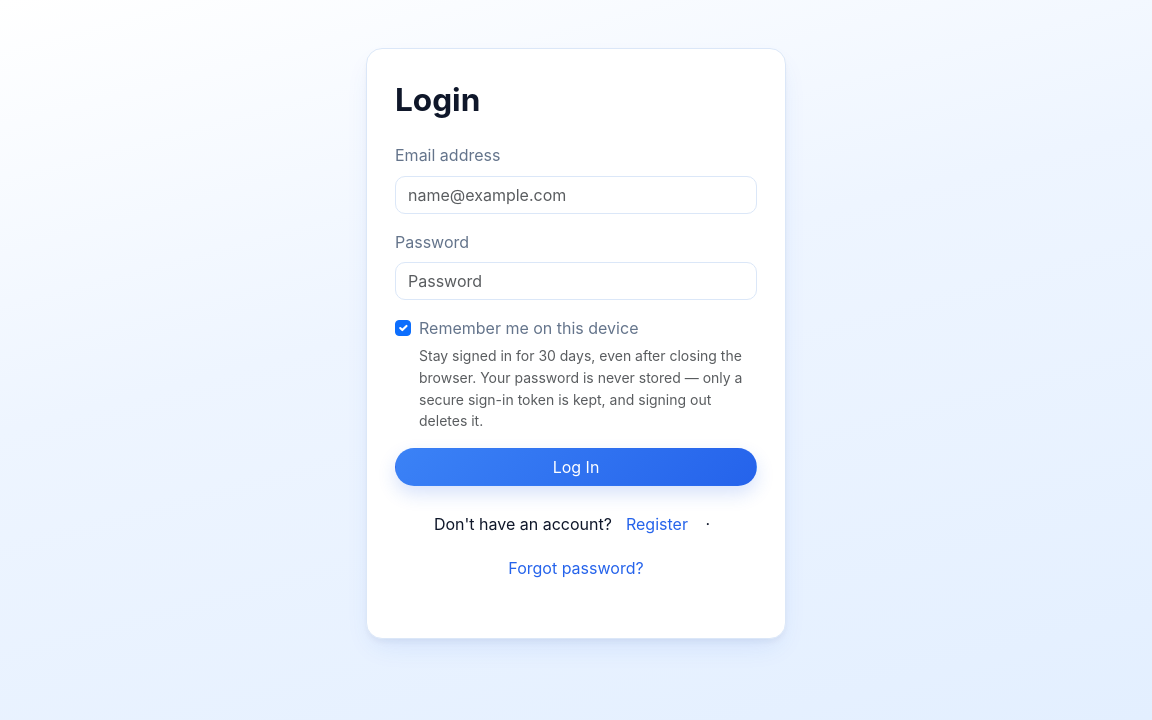
Main Navigation › navigates between the auth pages
Check: the heading "Login" is shown, box [395,80,480,119]
Click the link "Register": (657, 524) [626,514,688,534]
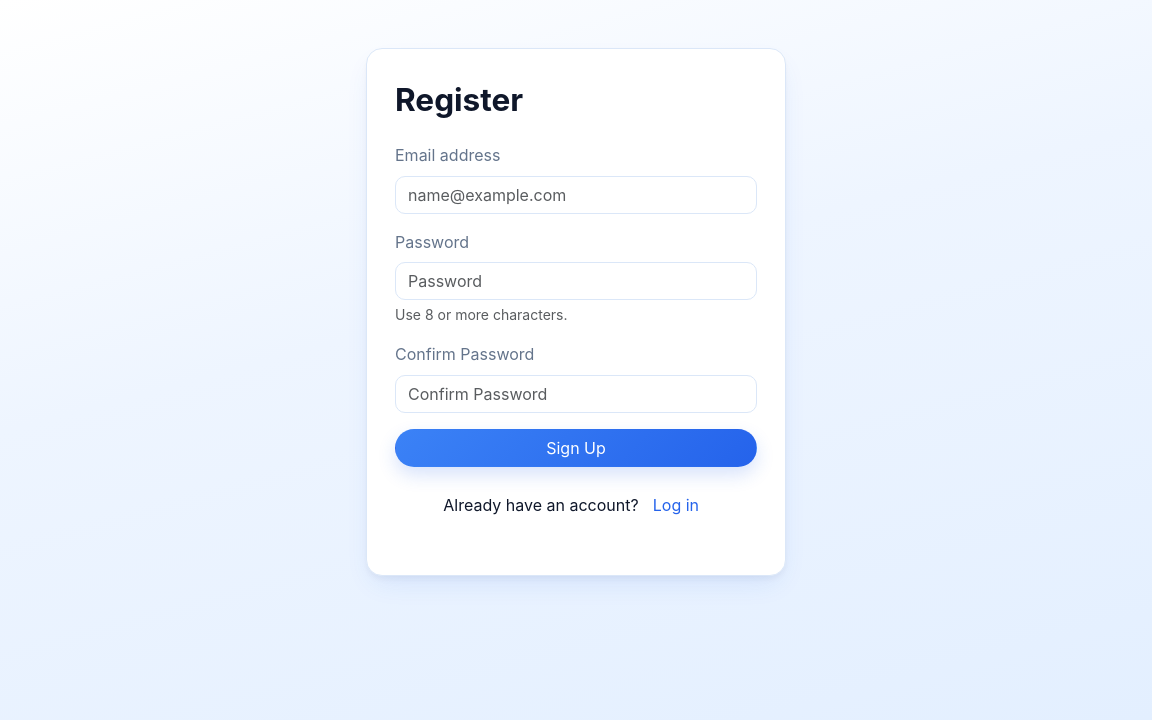
Check: the heading "Register" is shown, box [395,80,523,119]
Click the link "Log in": (676, 504) [653,494,699,514]
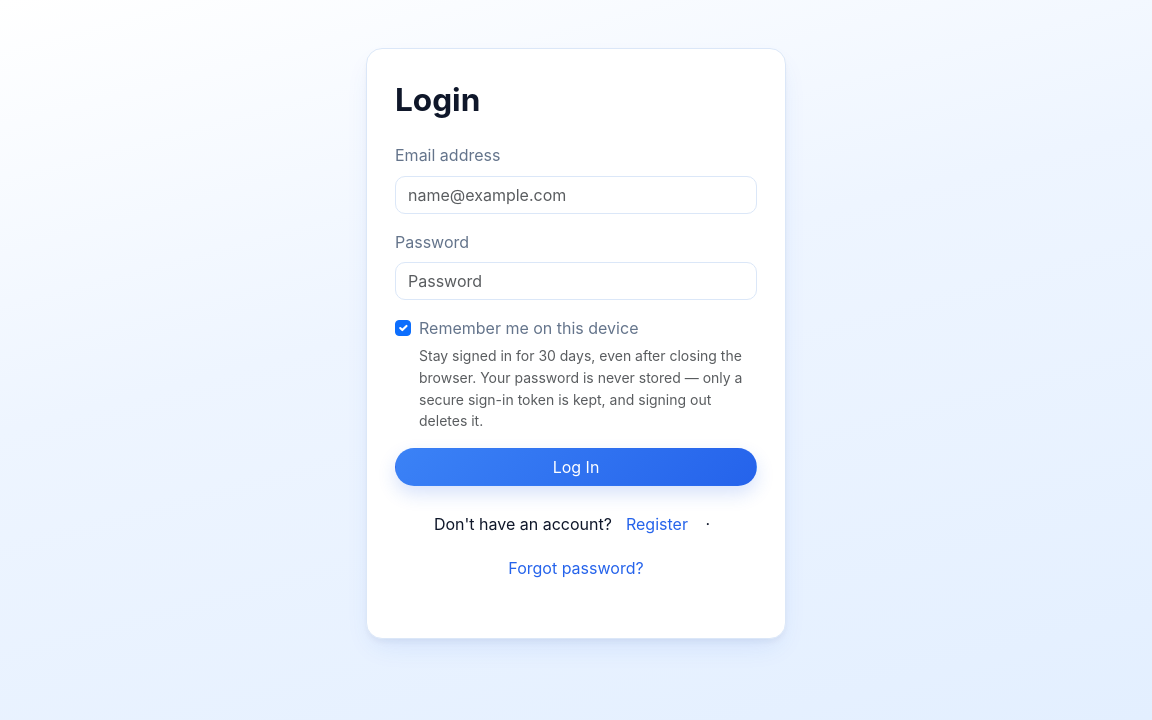
Check: the heading "Login" is shown, box [395,80,480,119]
